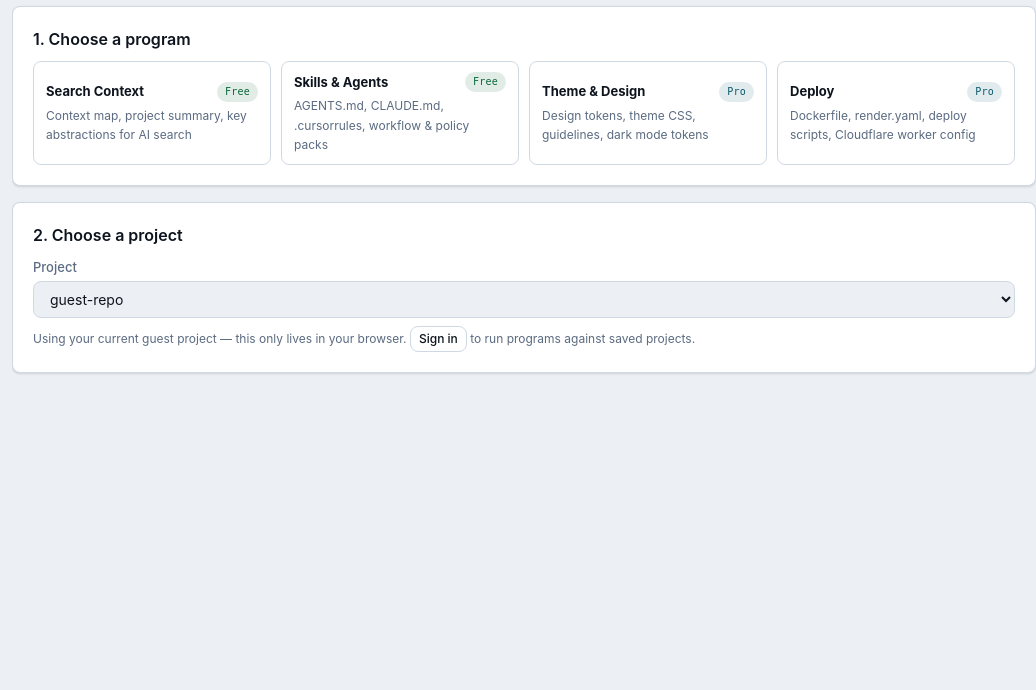
Test: RunnerPage — running a program (free + honest staged status + results) › 'Run another program' clears the results panel so a second run can start fresh
The width and height of the screenshot is (1036, 690).
Check: the text "Search Context" is shown, box [46,81,144,102]
Click the button "Search Context": point(152, 113) [33,61,271,165]
(page scrolled)
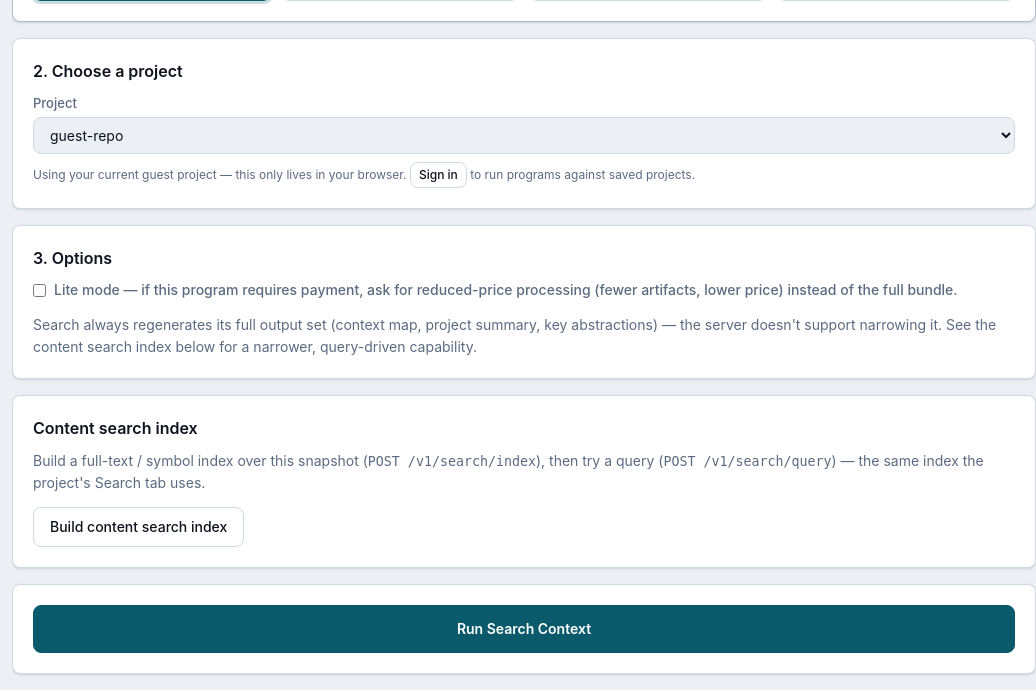
Click the button "Run Search Context": point(524, 629) [33,605,1015,654]
(page scrolled)
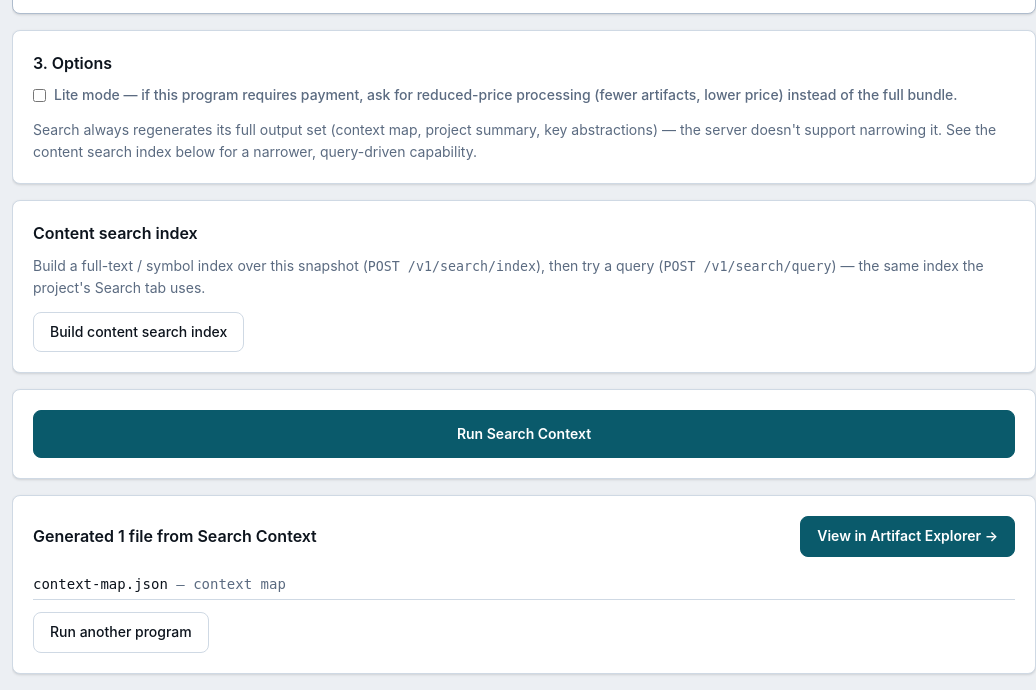
Check: the heading "Generated 1 file from Search Context" is shown, box [33,524,317,549]
Click the button "Run another program": point(121, 632) [33,612,209,653]
(page scrolled)
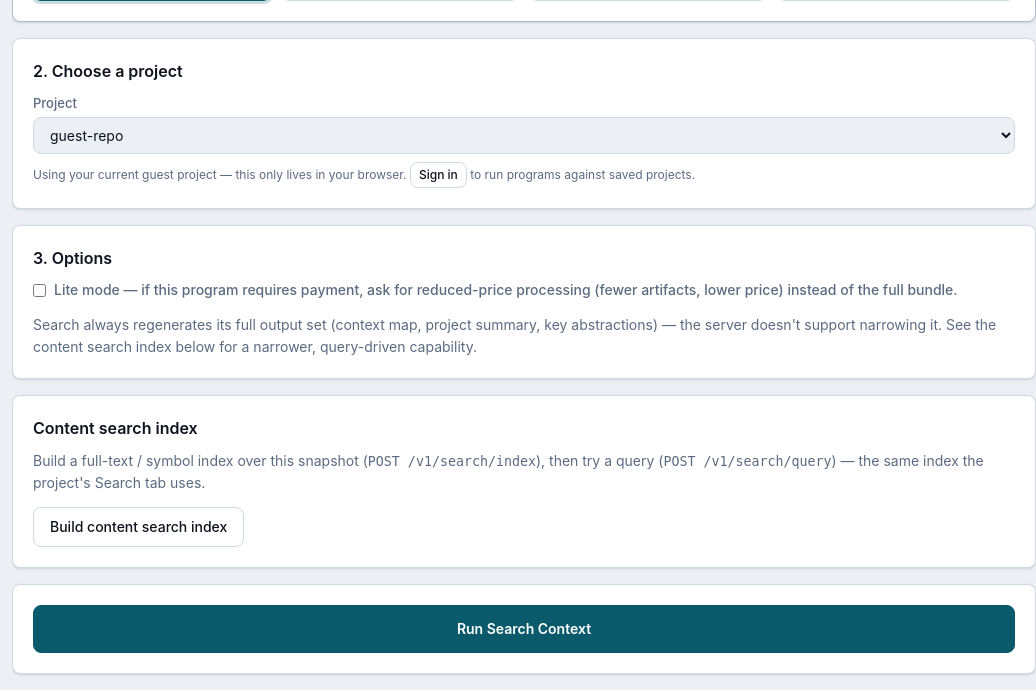
Check: the heading "Generated 1 file" is gone
